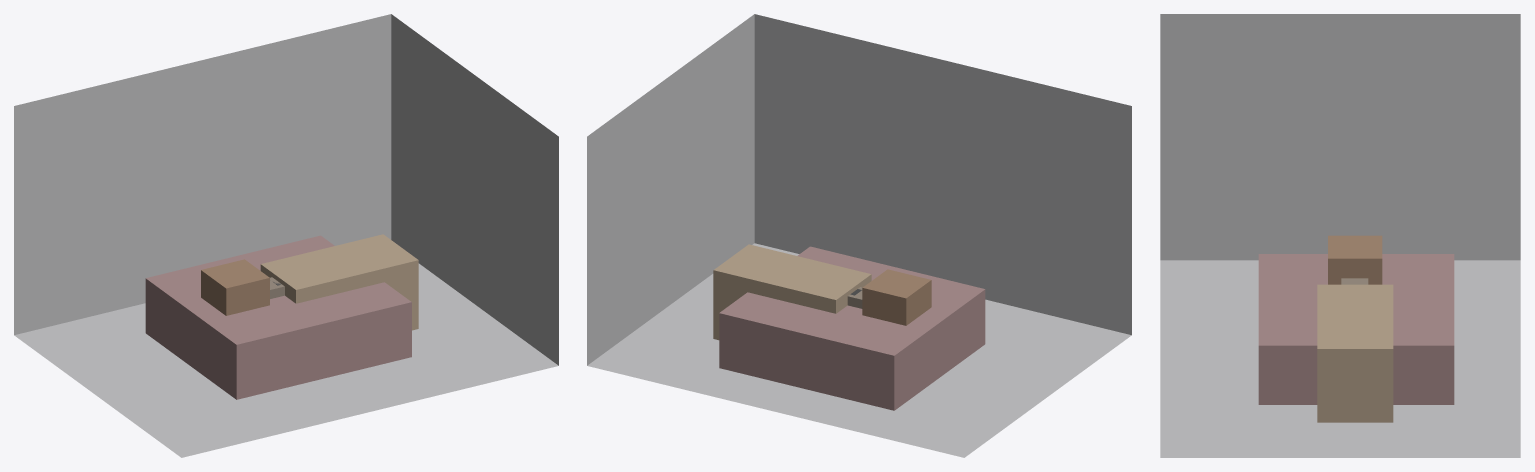
The model's file is current_layout.glb.
3 views of the same model, side by side, from view 1: azimuth 30°, elevation 25°; view 2: azimuth 150°, elevation 25°; view 3: azimuth 270°, elevation 25° (orthographic). The views are drawn at different scales.
Visible parts, largest first — view 1: room, bed, desk, chair; view 2: room, bed, desk, chair; view 3: room, bed, desk, chair.
Boxes of the visible parts, left/top/right/bottom form: room: left=14, top=14, right=558, bottom=457; bed: left=145, top=235, right=411, bottom=399; desk: left=260, top=234, right=418, bottom=330; chair: left=201, top=259, right=269, bottom=315; room: left=587, top=14, right=1131, bottom=457; bed: left=719, top=246, right=985, bottom=410; desk: left=713, top=244, right=871, bottom=340; chair: left=862, top=269, right=931, bottom=325; room: left=1160, top=14, right=1520, bottom=457; bed: left=1258, top=254, right=1454, bottom=404; desk: left=1317, top=284, right=1393, bottom=422; chair: left=1328, top=235, right=1382, bottom=284.
Size of the model in its own units: 4.31 by 2.5 by 3.31.
